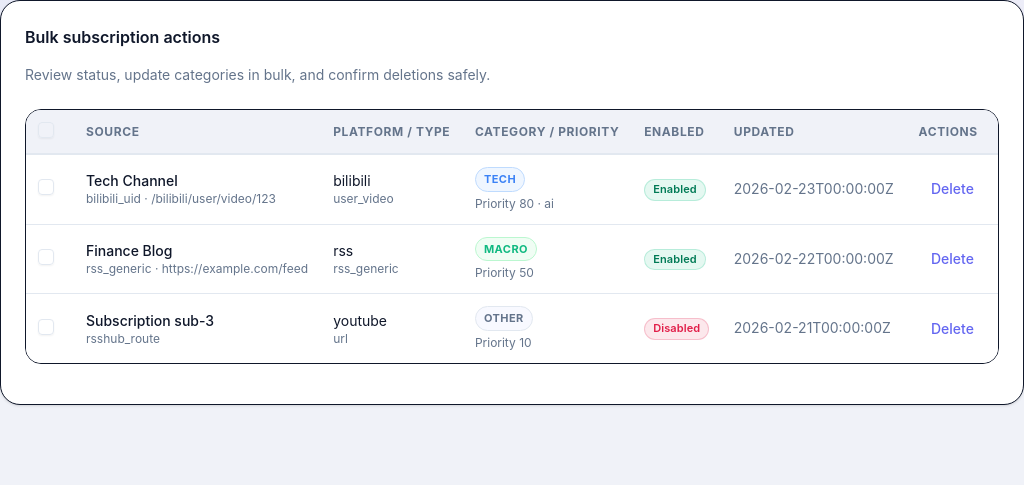
it: SubscriptionBatchPanel › shows delete failure message when API rejects
The width and height of the screenshot is (1024, 485).
Click the button "Delete" in the row of "Tech Channel": (952, 189) [919,173,986,205]
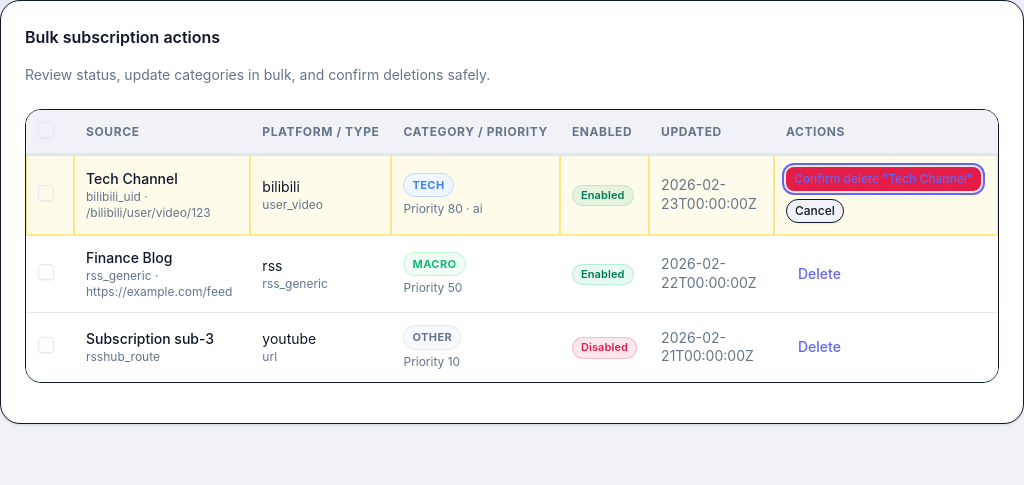
Click the button "Confirm delete \"Tech Channel\"": (883, 179) [786,167,981,191]
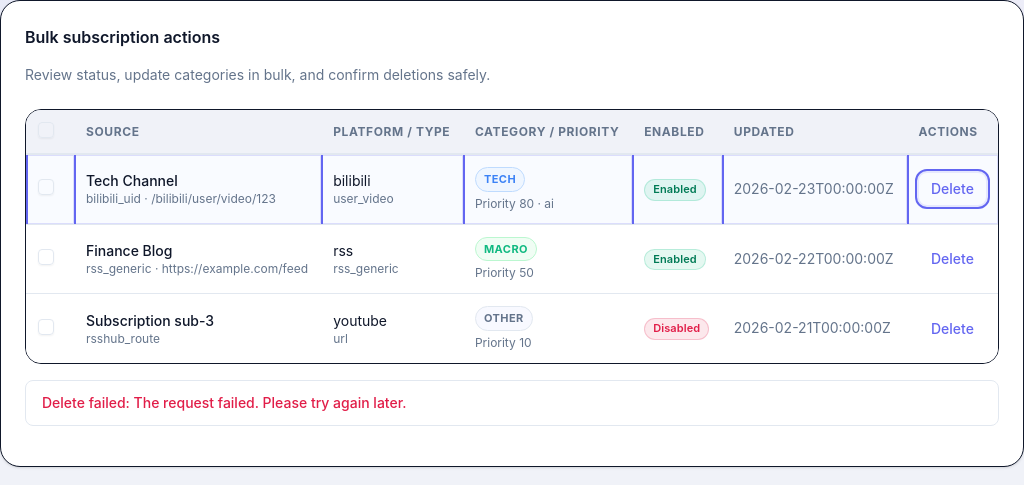
Result: the text "Delete failed: The request failed. Please try again later." is shown at [25,380,999,426]
